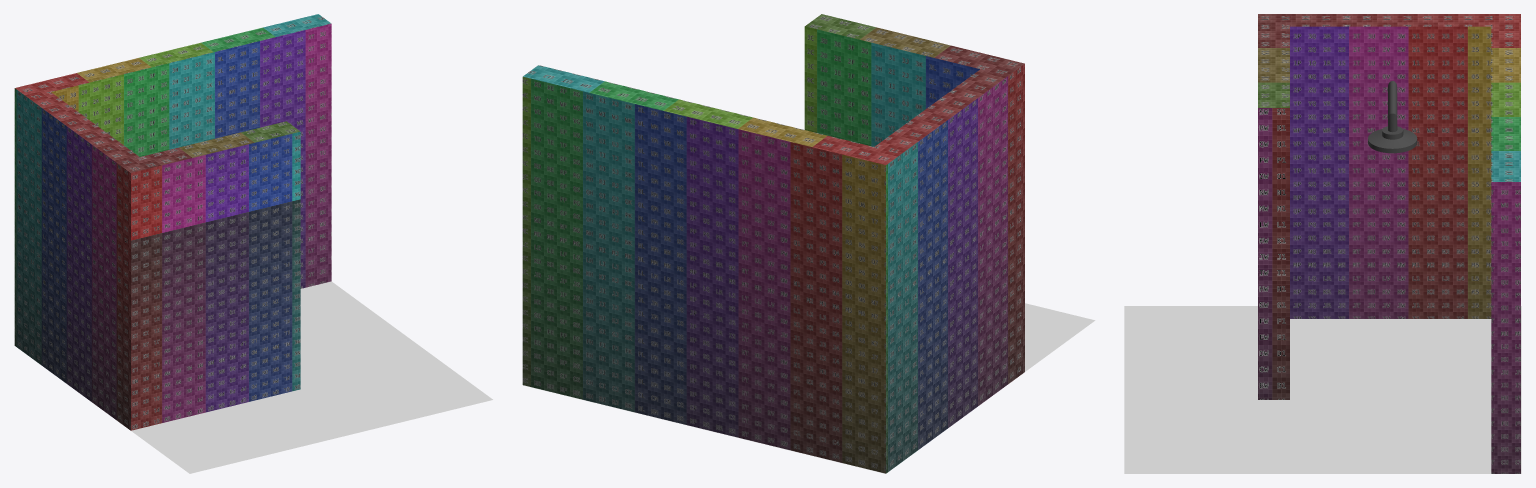
File: Shower.glb
The picture shows the model from 3 angles, left to right: view 1: azimuth 30°, elevation 25°; view 2: azimuth 150°, elevation 25°; view 3: azimuth 270°, elevation 25°; orthographic projection. The views are drawn at different scales.
Parts seen in each view (by area): view 1: main_change, floor; view 2: main_change, floor; view 3: main_change, floor, Shower.
Boxes of the visible parts, <box> form: main_change: <box>14,14,331,430</box>; floor: <box>131,281,492,473</box>; main_change: <box>522,14,1024,473</box>; floor: <box>523,303,1095,473</box>; main_change: <box>1258,14,1520,473</box>; floor: <box>1124,306,1521,473</box>; Shower: <box>1368,81,1417,153</box>.
Size of the model in its own units: 4 by 3.24 by 4.
3 materials, 1 textured.
